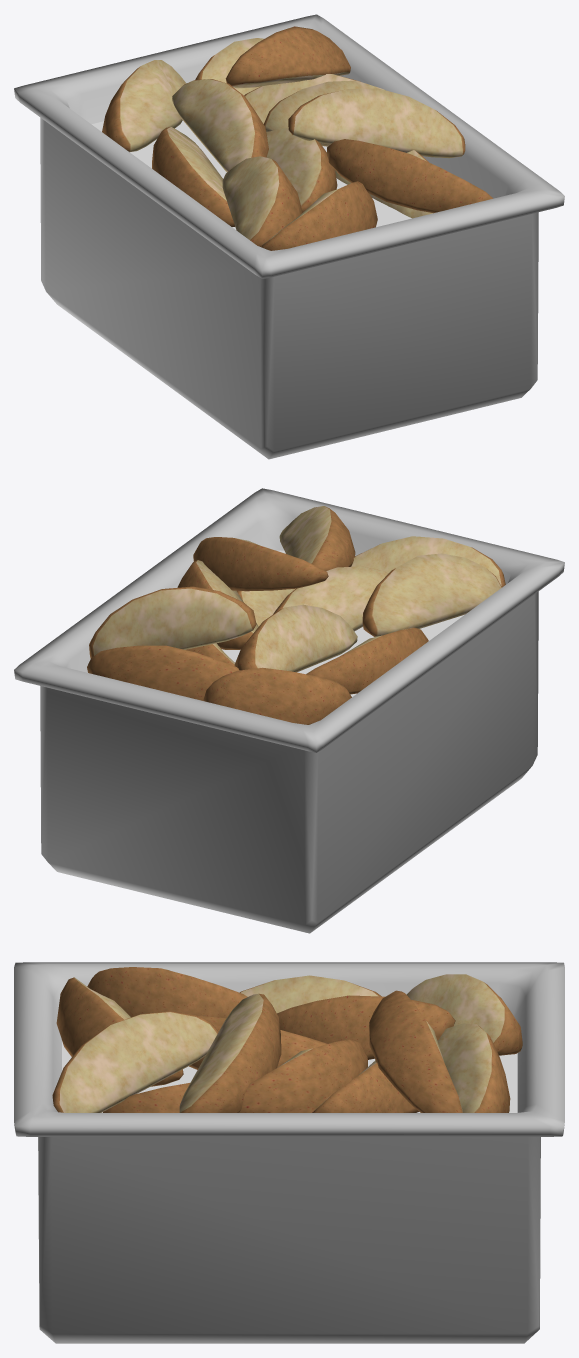
The model's file is potato_vart.fbx.
The picture shows the model from 3 angles, top to bottom: view 1: azimuth 30°, elevation 25°; view 2: azimuth 150°, elevation 25°; view 3: azimuth 270°, elevation 25°; orthographic projection. The views are drawn at different scales.
Visible parts, largest first — view 1: potato_vat; view 2: potato_vat; view 3: potato_vat.
Part boxes in pixels (x1,y1,x2,y2): potato_vat: (14, 14, 564, 459); potato_vat: (14, 488, 564, 933); potato_vat: (14, 962, 564, 1343).
Size of the model in its own units: 9.7 by 8.12 by 13.71.
